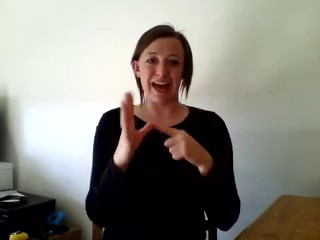A: (111, 89, 200, 172)
